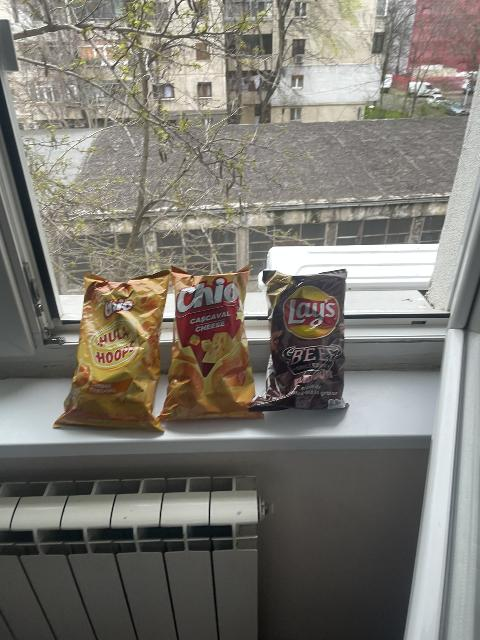Chio Cascaval 125g: (161, 265, 264, 422)
Chio Hula Hoops Cheese 70g: (53, 270, 172, 432)
Lays Beef Grilled Ribs 125g: (247, 268, 348, 414)
